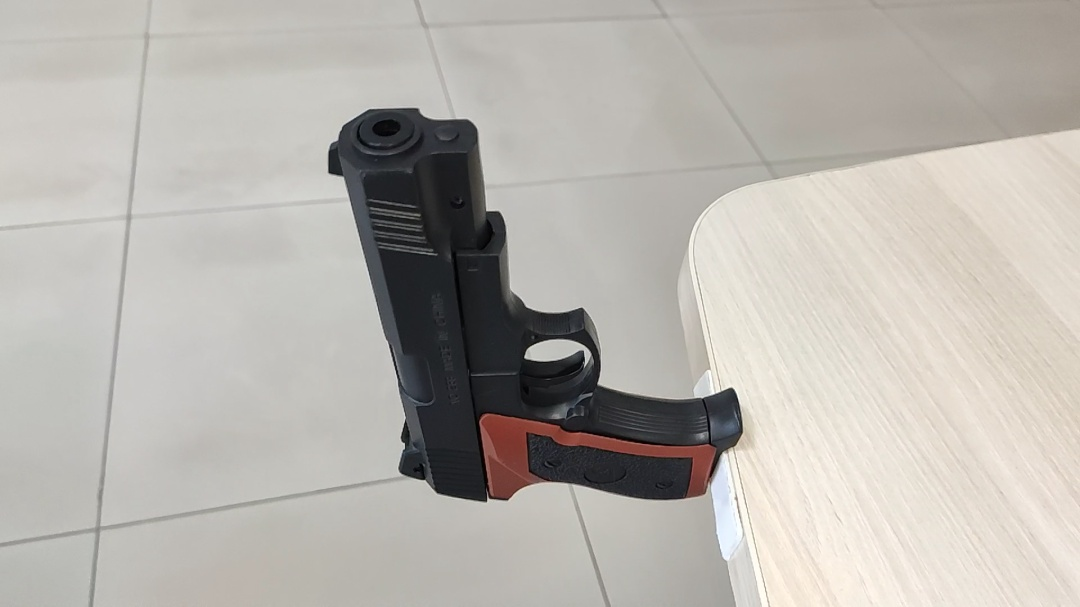gun: (593, 288, 636, 316)
